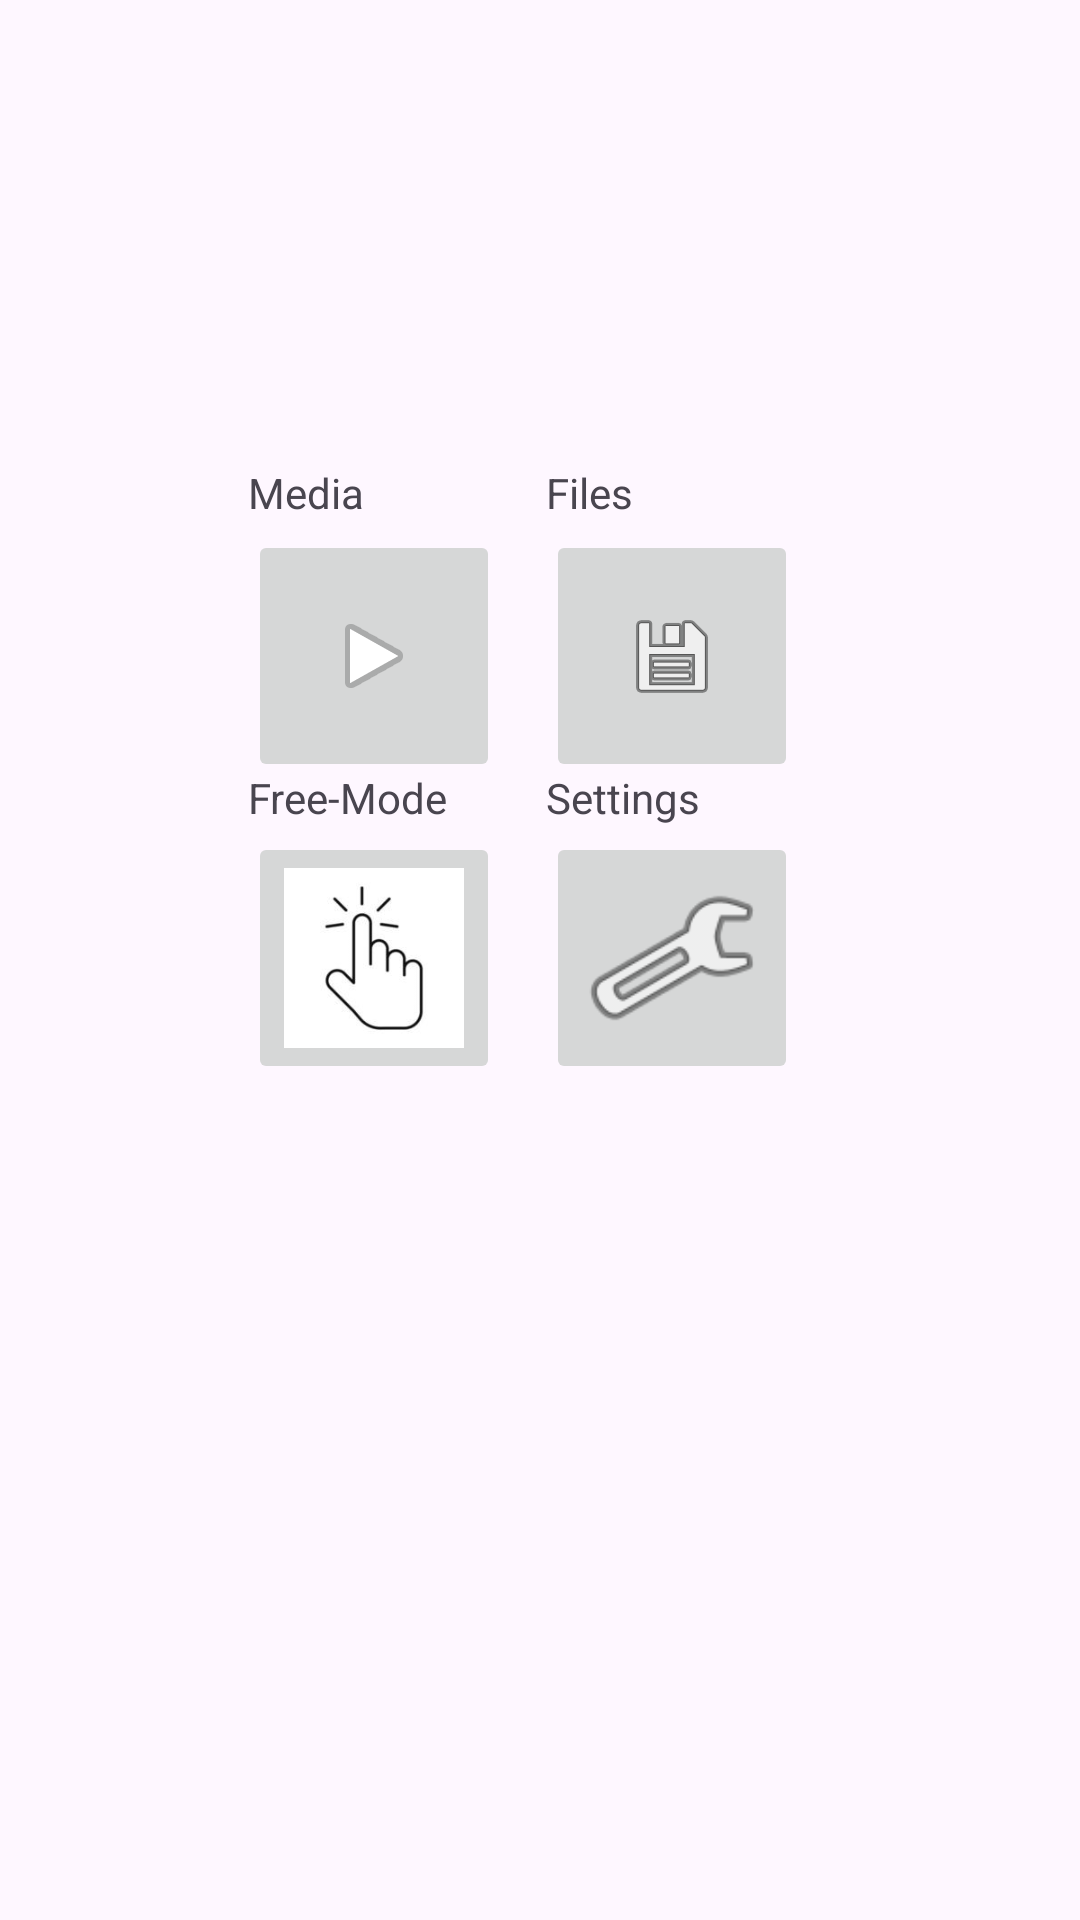

Icon bounding boxes for this 1080 x 1920 phone screenshot, format (x1, y1, x2, y2):
click: (260, 850, 488, 1066)
play: (260, 548, 488, 764)
save: (558, 548, 786, 764)
